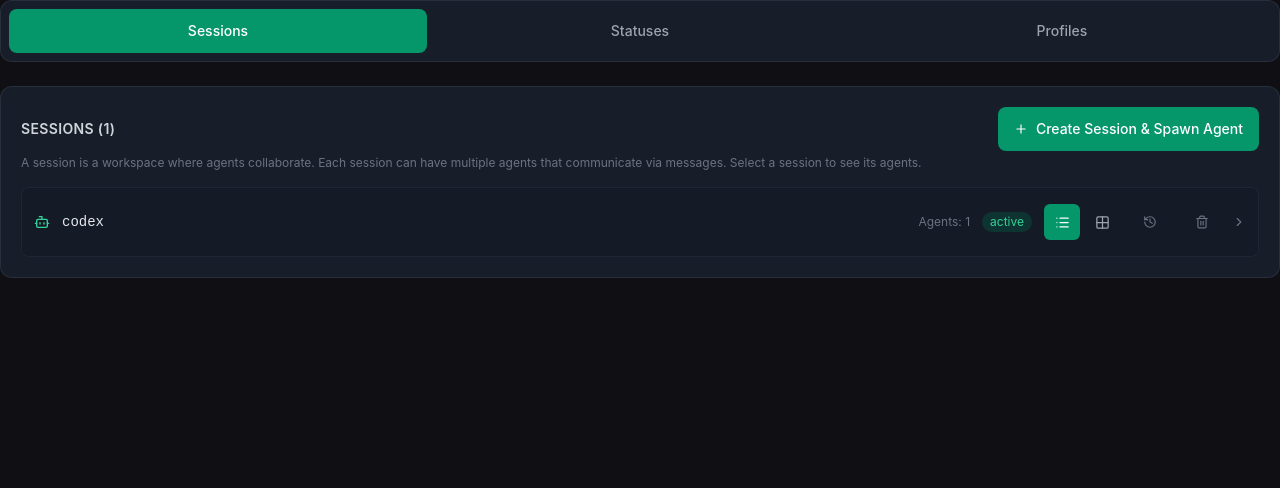
Test: session creation and canonical ordering › replaces the competing AgentPanel message input with a Workflow Composer shortcut
The image size is (1280, 488).
Expected: the text with class "font-mono" reads "codex", [62,214,104,230]
Click the button with aria-label "Expand codex". click: [83, 222]
box: [34,212,1032,232]
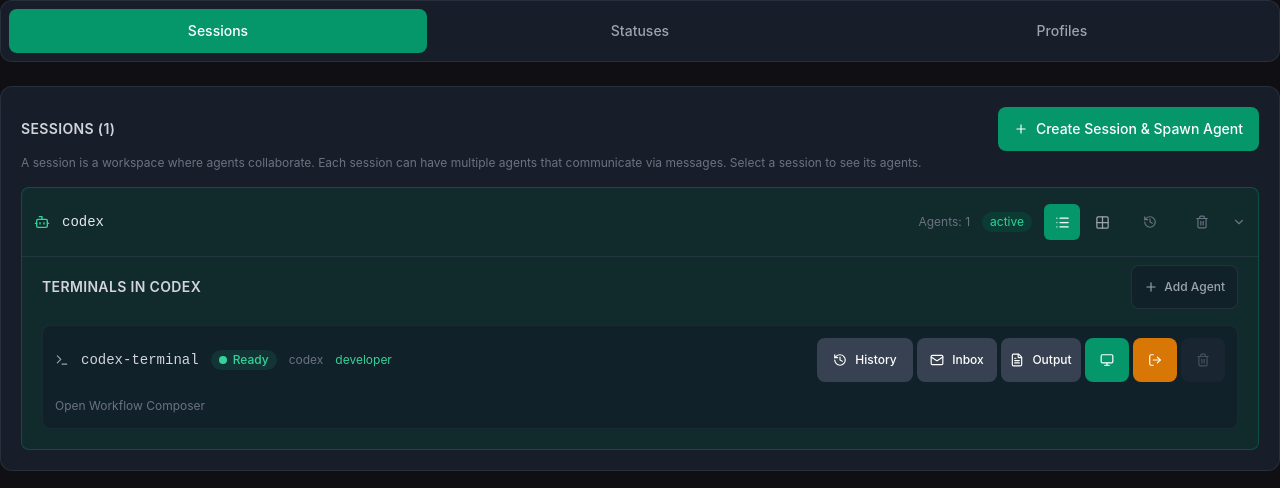
Result: the button "Open Workflow Composer" is shown at [55,398,205,414]
